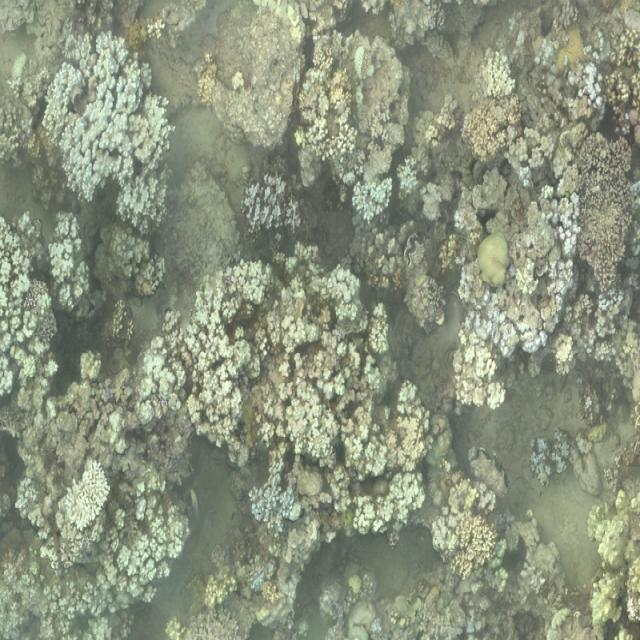Bleached Coral: (40, 23, 174, 229), (457, 260, 554, 378), (542, 170, 590, 350), (54, 456, 126, 548), (240, 462, 310, 549), (237, 162, 304, 248), (343, 144, 401, 234), (526, 421, 577, 497), (572, 57, 612, 129)
